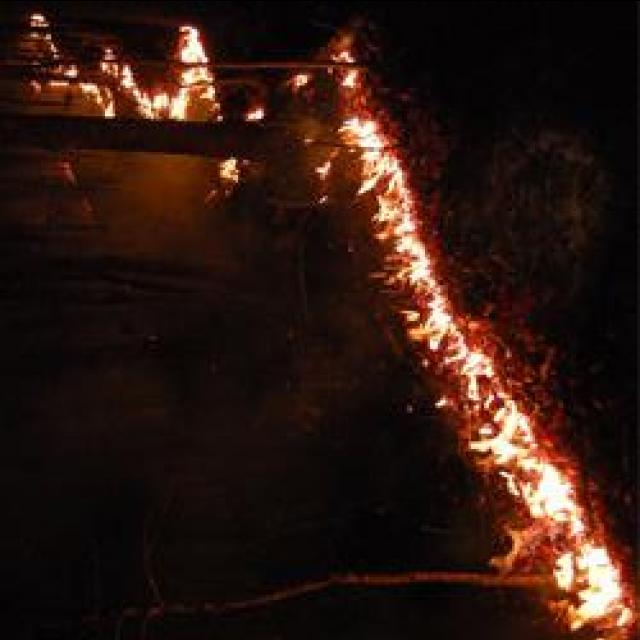fire: (525, 432, 615, 640), (370, 165, 450, 358), (454, 312, 528, 515), (84, 19, 218, 120), (336, 72, 388, 198)
